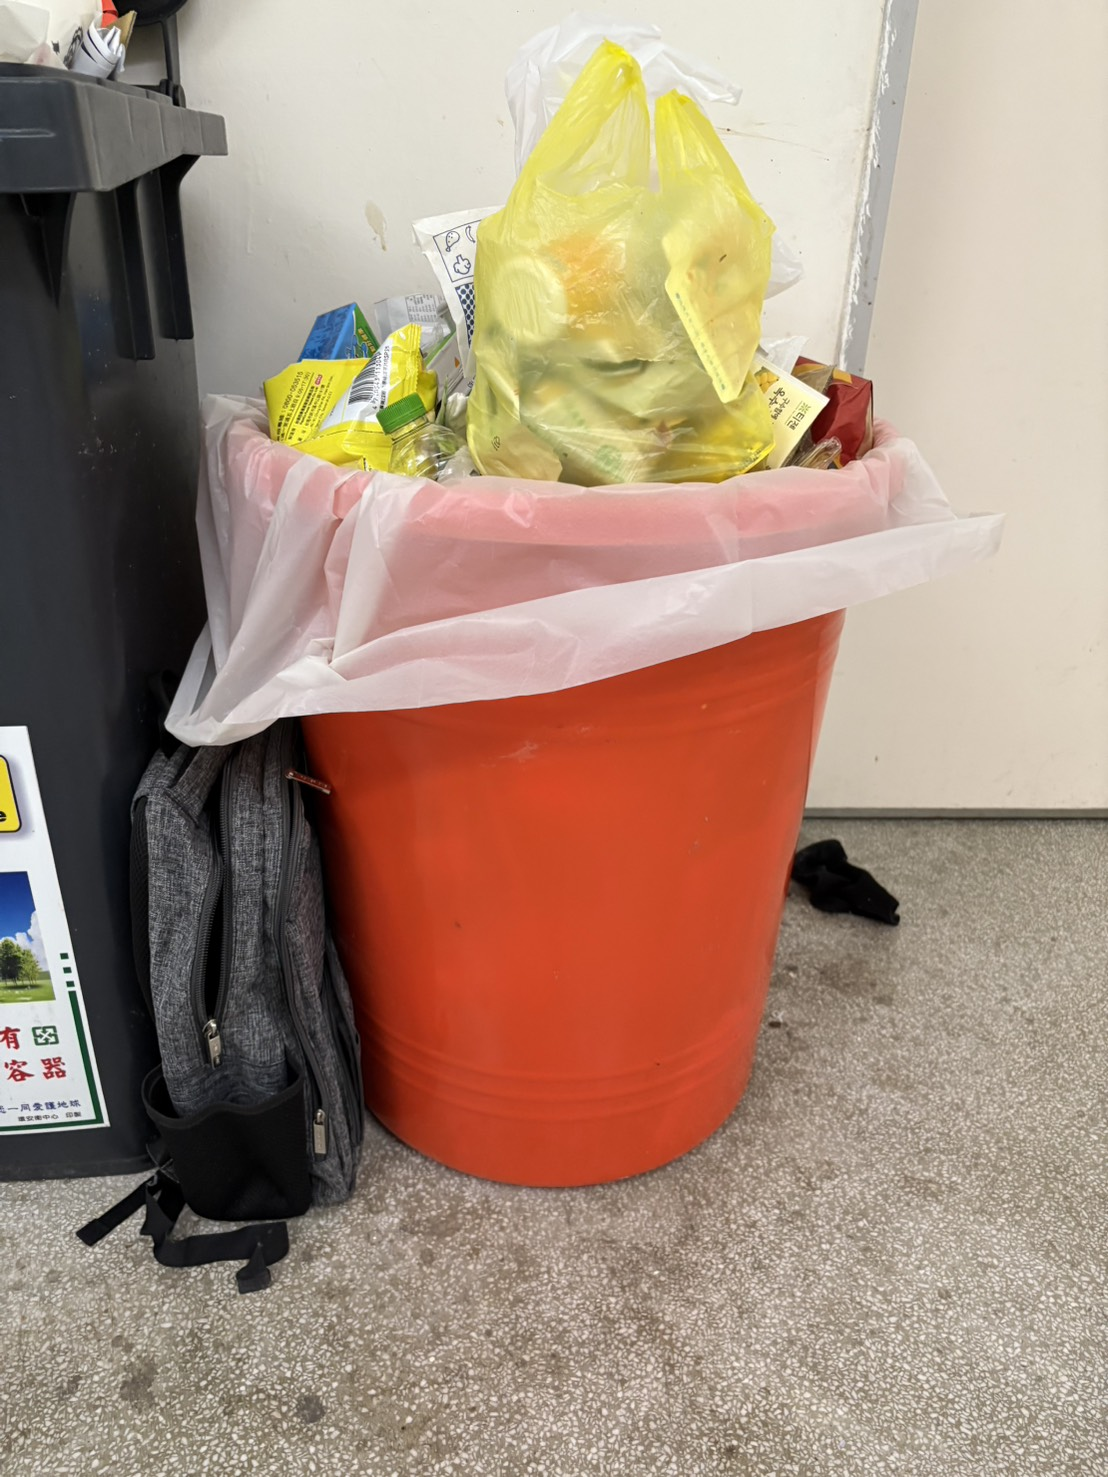overflow_bin: (156, 29, 911, 1208)
